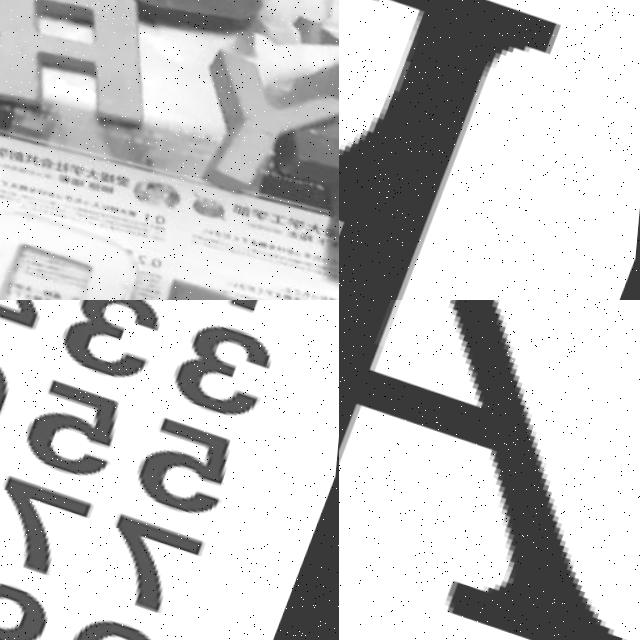3: (169, 307, 292, 422), (55, 300, 170, 381)
5: (18, 366, 144, 485), (129, 404, 254, 521)
6: (0, 327, 30, 445)
7: (92, 498, 224, 618), (0, 464, 110, 582)
9: (0, 562, 71, 640), (63, 599, 188, 640)
A: (339, 300, 640, 640)
E: (339, 0, 563, 300)
O: (63, 0, 291, 45)
Q: (0, 181, 157, 300)
R: (0, 0, 173, 138)
T: (255, 107, 339, 277)
Y: (170, 40, 339, 212)
